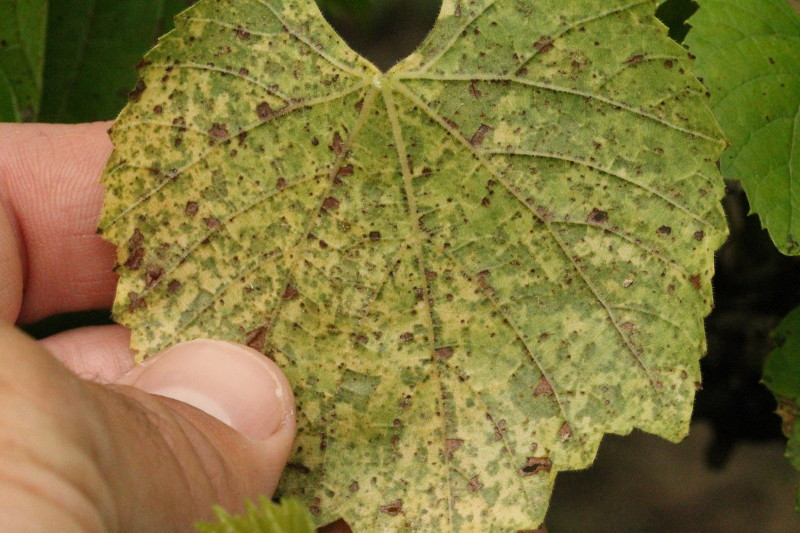downy: (396, 70, 695, 369), (139, 72, 387, 320), (399, 385, 544, 530), (303, 332, 392, 421), (308, 436, 395, 523), (593, 1, 659, 66), (264, 9, 329, 74), (448, 3, 512, 67), (562, 376, 623, 437), (520, 6, 581, 67), (634, 375, 695, 436), (194, 14, 251, 71)
